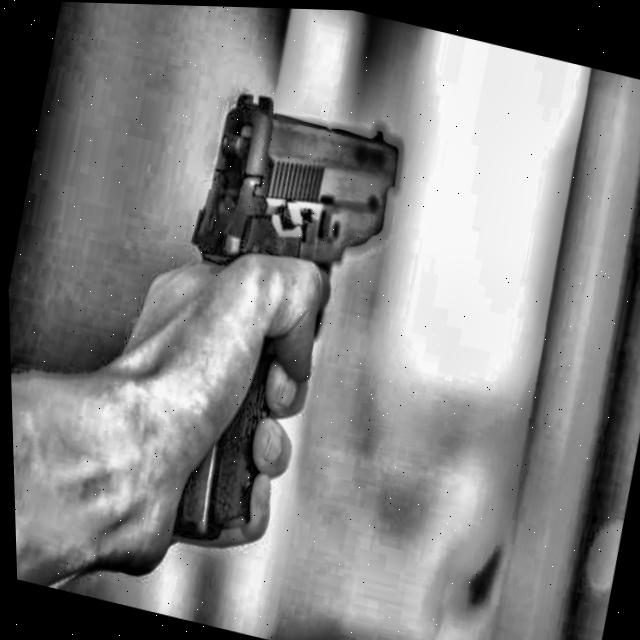pistol: (154, 87, 425, 544)
